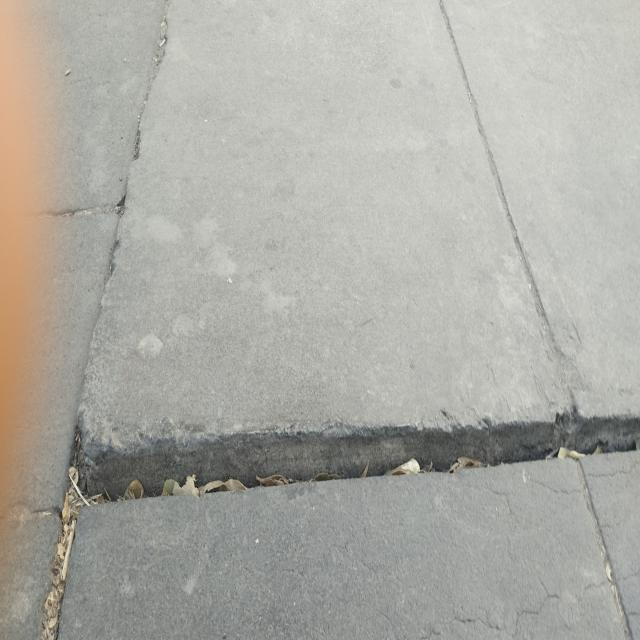bump: (53, 411, 640, 537)
